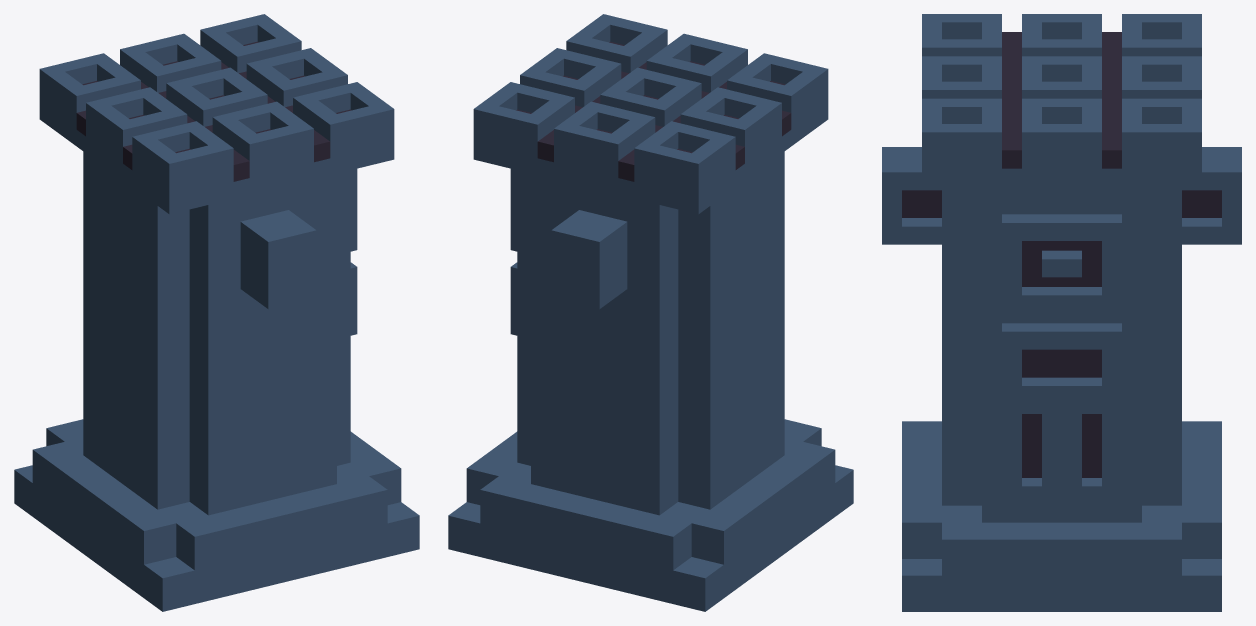
The model's file is torre.obj.
The picture shows the model from 3 angles, left to right: view 1: azimuth 30°, elevation 25°; view 2: azimuth 150°, elevation 25°; view 3: azimuth 270°, elevation 25°; orthographic projection. The views are drawn at different scales.
Size of the model in its own units: 16 by 26 by 18.
1 material, 1 textured.
